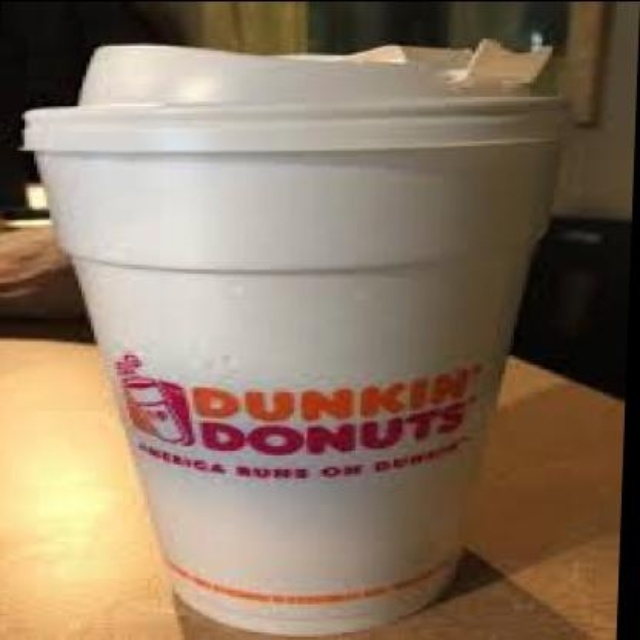trash: (25, 40, 555, 634)
